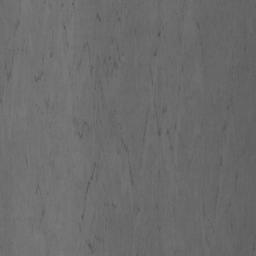Silk spot: (19, 0, 208, 256), (200, 173, 255, 251), (218, 45, 256, 113), (0, 18, 27, 104), (198, 122, 226, 142)
